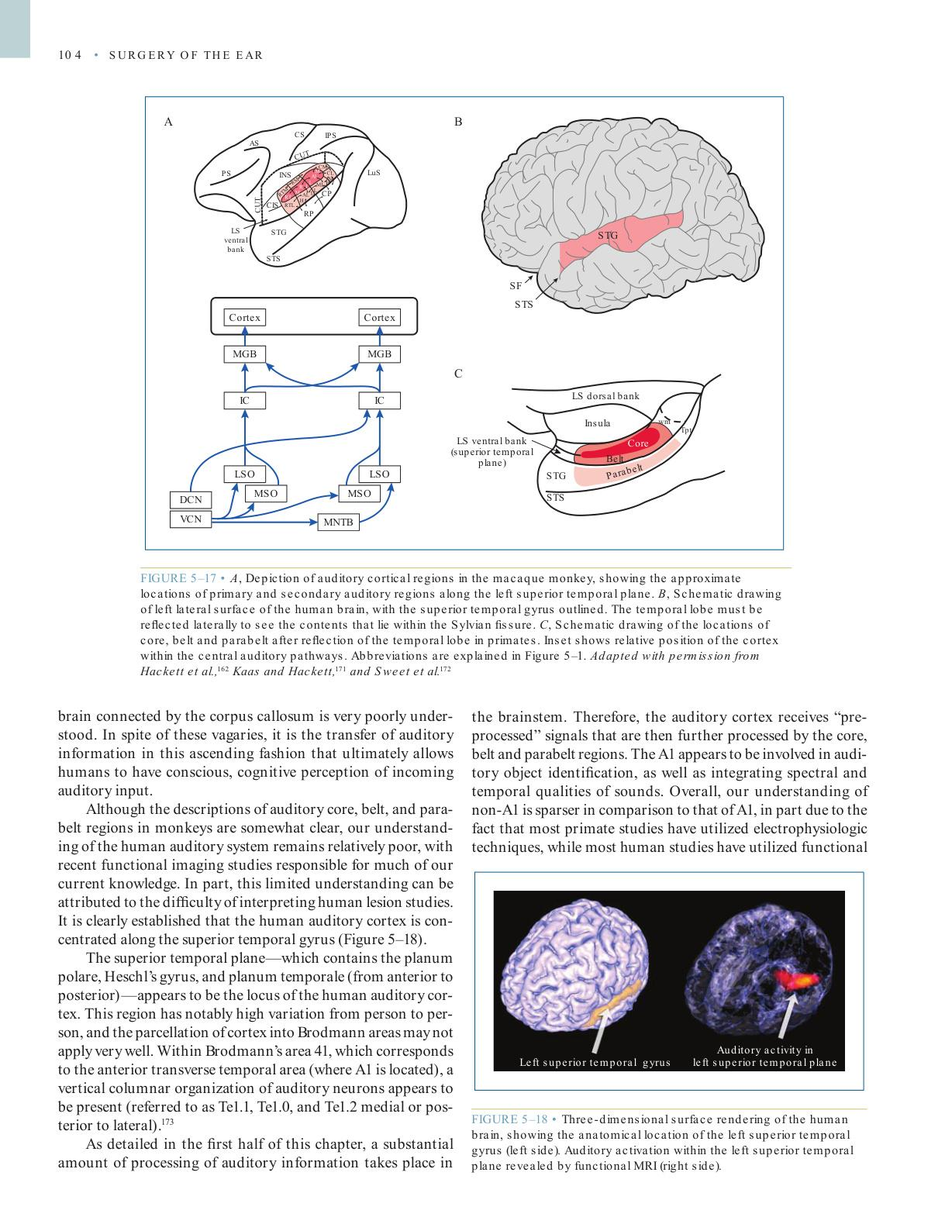caption: (139, 569, 784, 677), (470, 1111, 856, 1176), (450, 112, 465, 129), (161, 113, 176, 129), (452, 366, 464, 381)
header: (108, 49, 265, 60)
image: (155, 108, 429, 543), (479, 876, 860, 1085), (473, 108, 775, 325), (447, 359, 740, 533)
text: (55, 707, 456, 1174), (468, 707, 871, 858)
